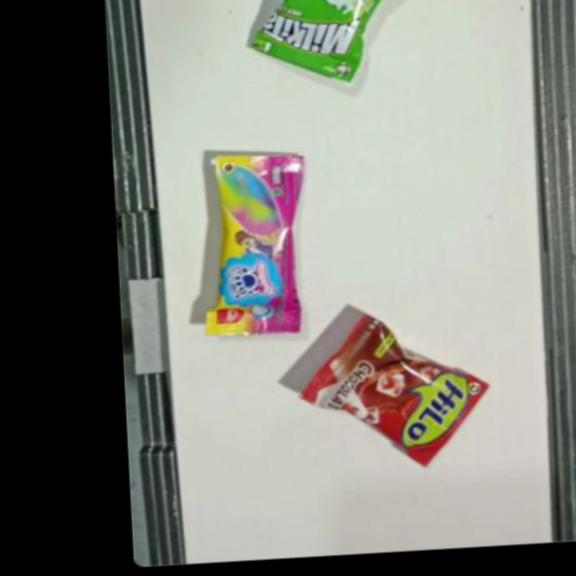Plastik: (295, 309, 493, 476), (197, 150, 311, 338), (240, 0, 412, 88)
